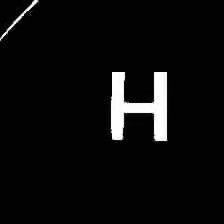LTR_H: (101, 61, 172, 152)
